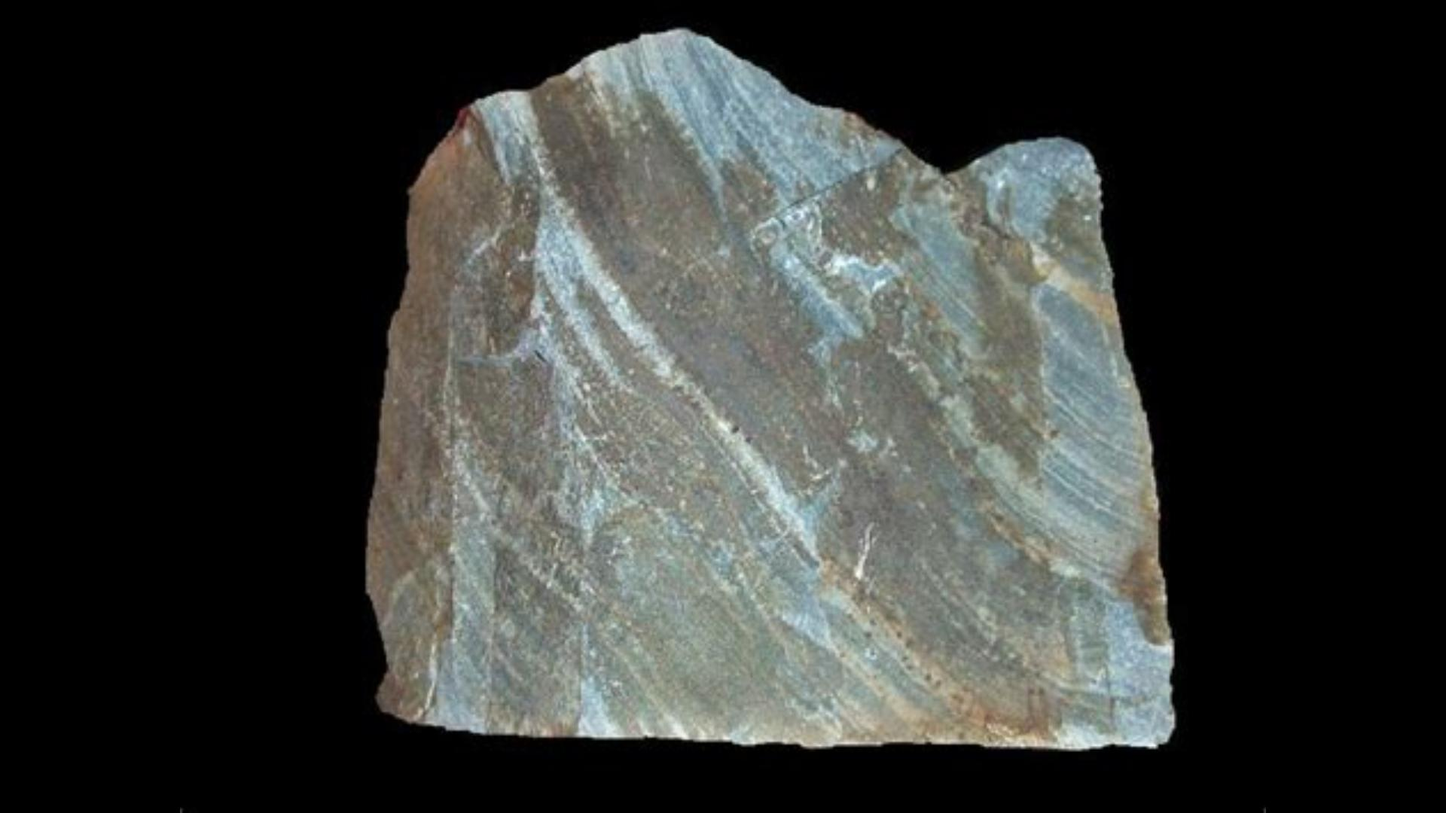rock: (368, 32, 1168, 742)
